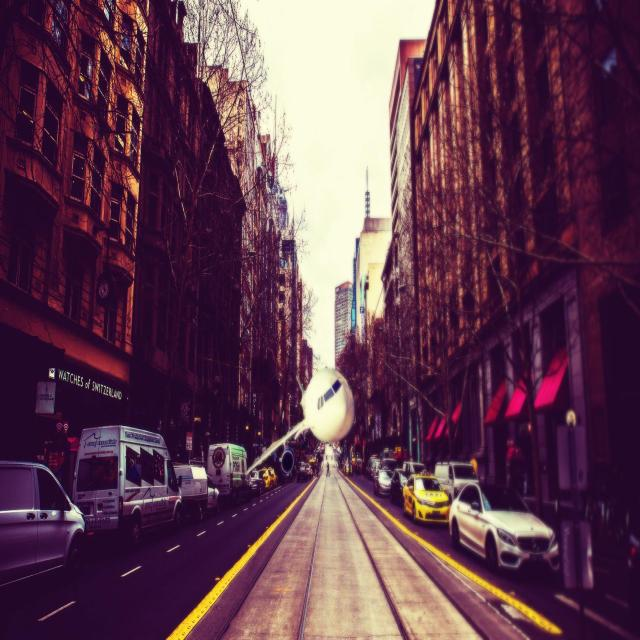airplane: (245, 366, 355, 477)
